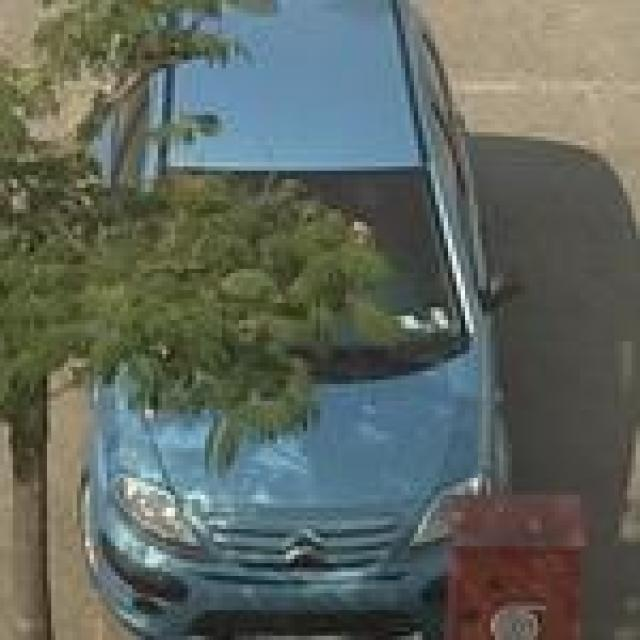cars-sUYr: (52, 3, 566, 636)
